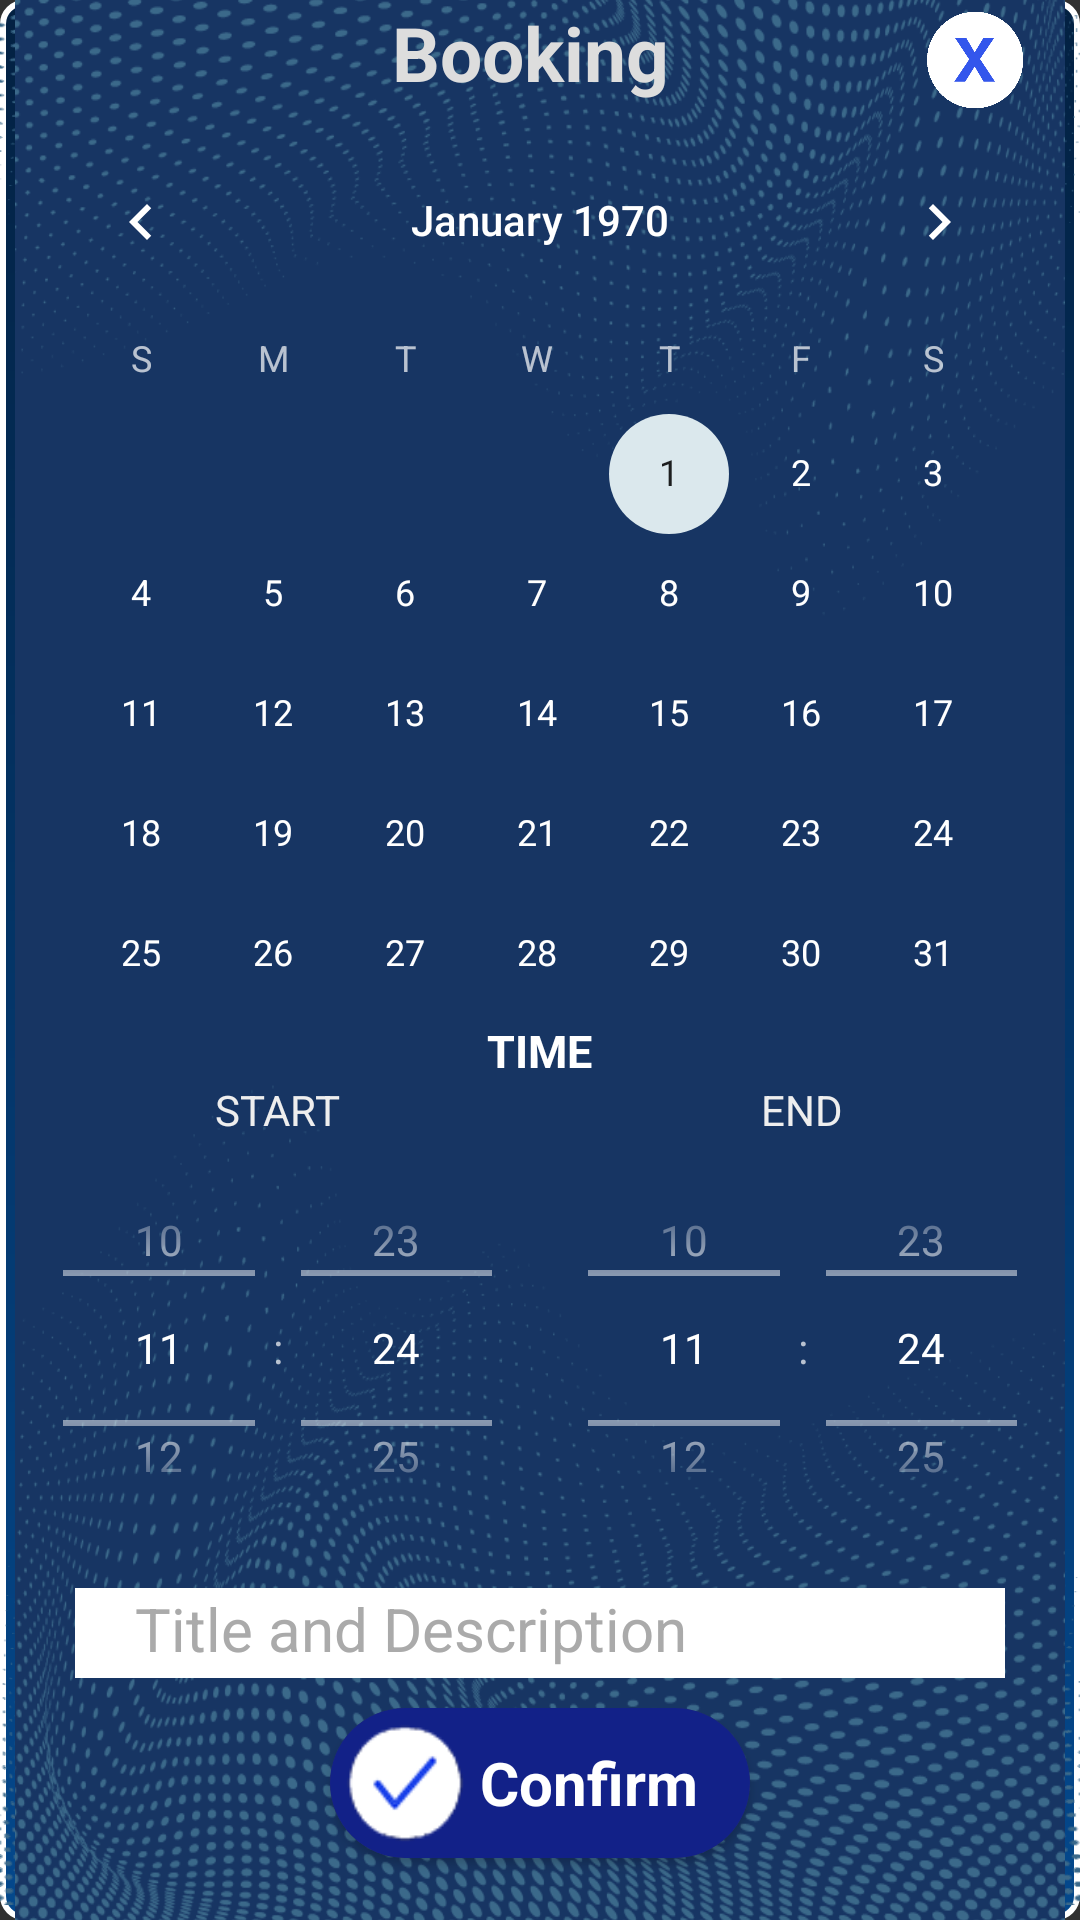

Where icons sit on this 1080 × 1920 app screen, as (x1, y1, x2, y2):
close: (915, 0, 1035, 120)
